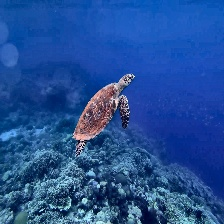seaturtle: (72, 73, 136, 157), (72, 74, 136, 157)
